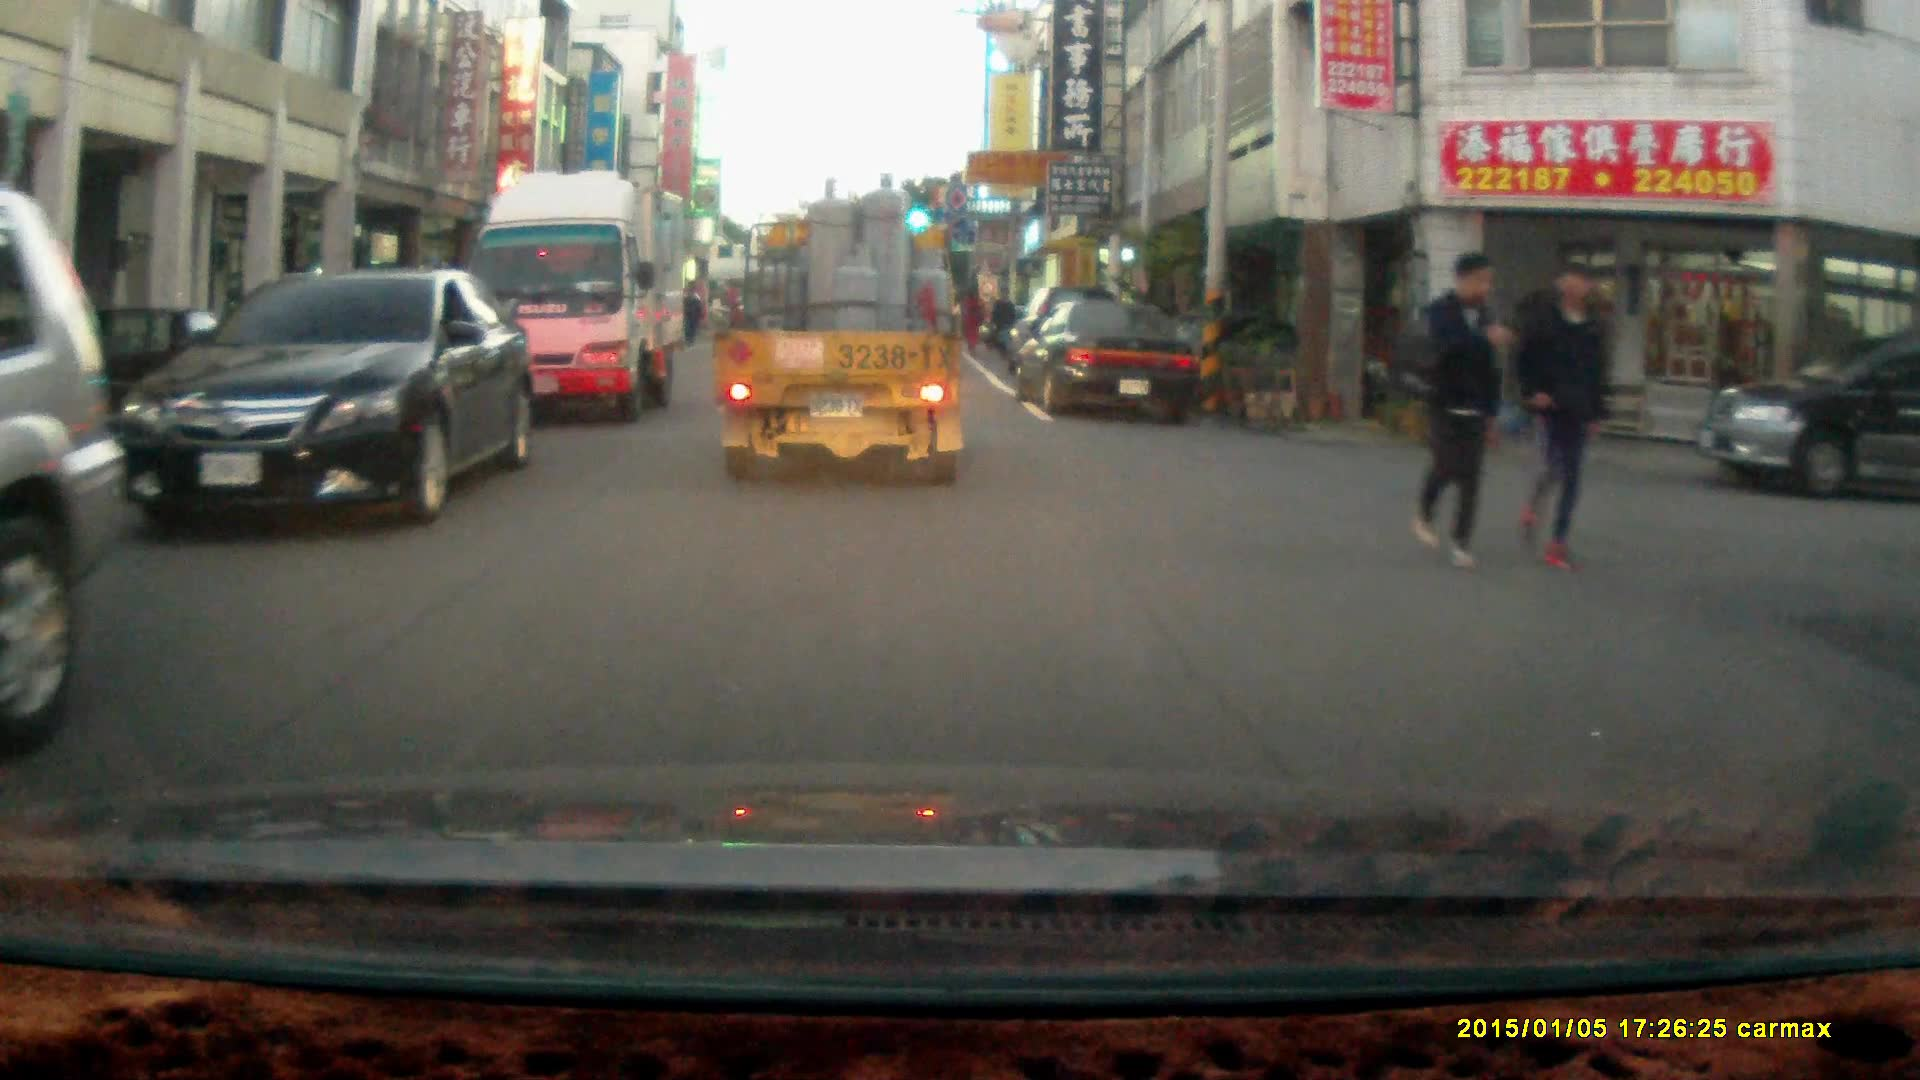pedestrian: (1514, 258, 1613, 578), (1410, 247, 1506, 569), (986, 284, 1015, 361), (671, 284, 704, 346), (960, 281, 986, 356)
vehicle: (115, 265, 542, 524), (718, 170, 970, 489), (464, 168, 689, 427), (1013, 299, 1203, 417)
